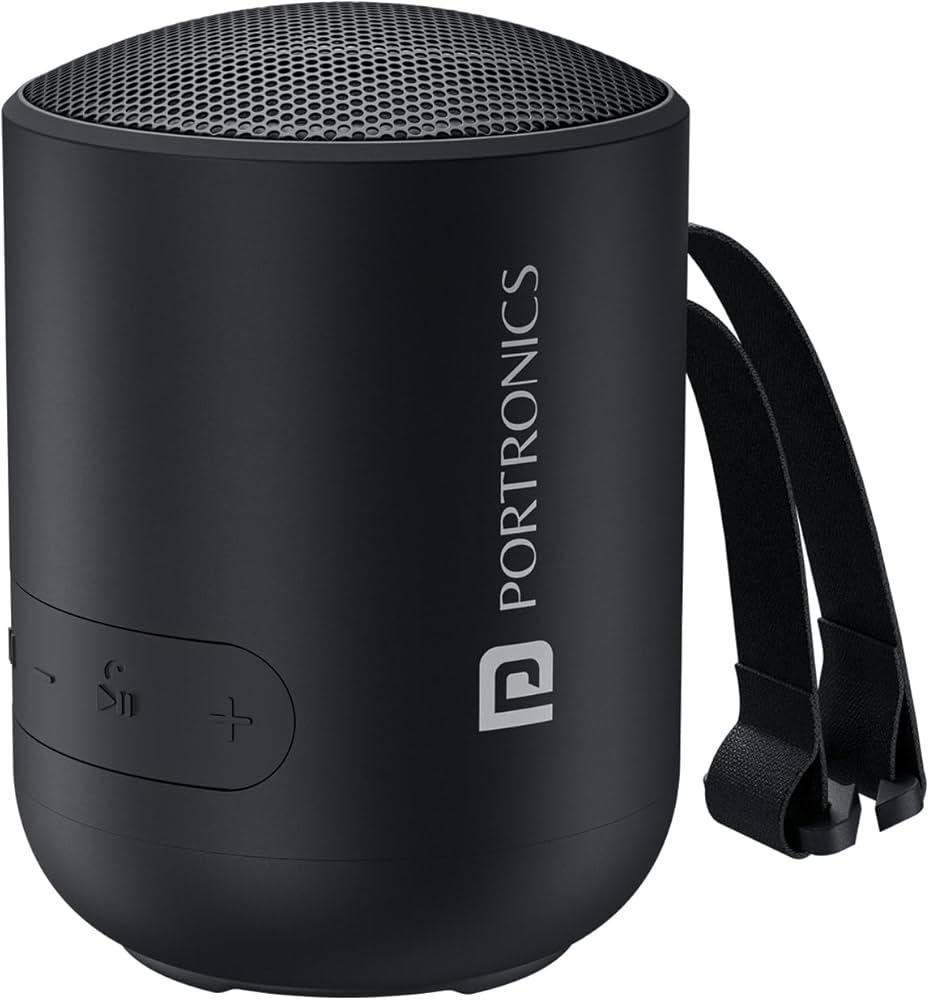speaker: (4, 0, 924, 1000)
